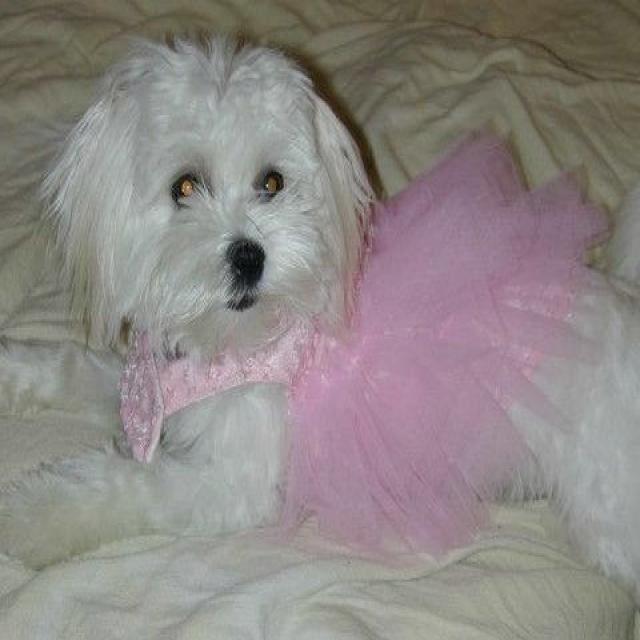maltese_dog: (1, 32, 638, 606)
